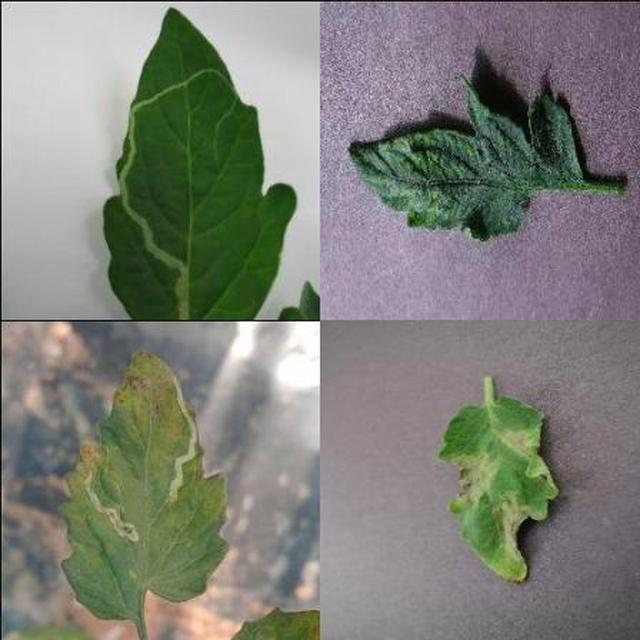Leaf Miner: (174, 223, 640, 640)
